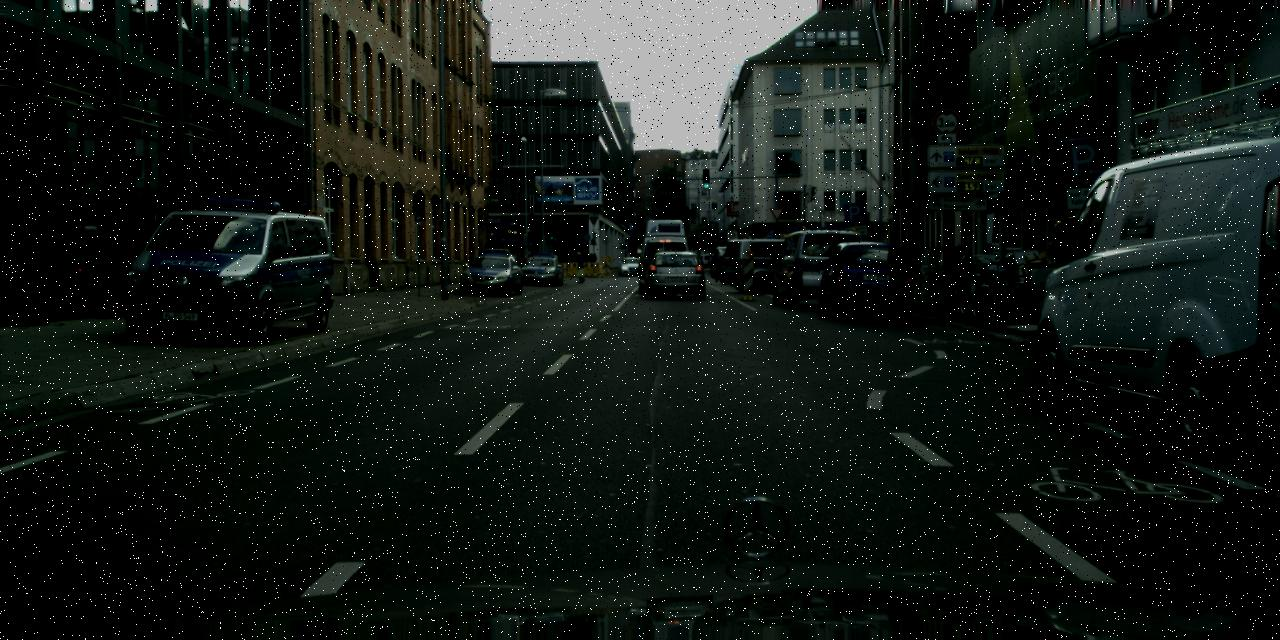ped: (573, 250, 586, 282), (568, 253, 577, 274), (587, 253, 597, 261)
